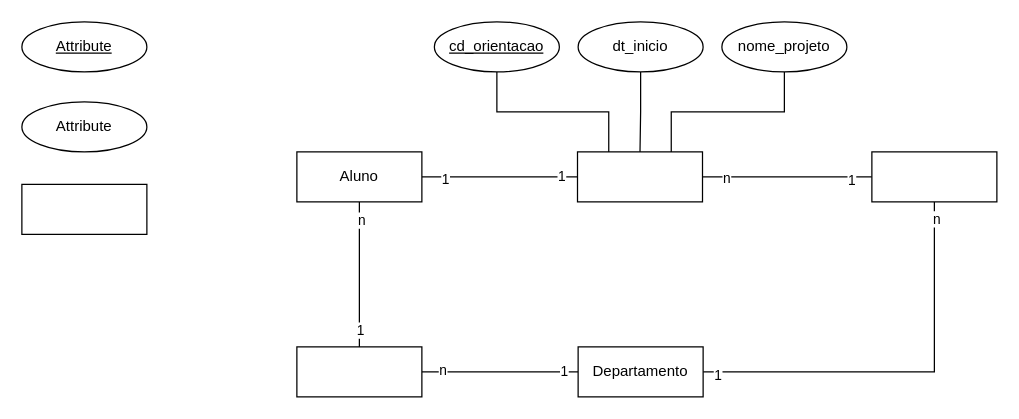
The diagram is 1019 pixels wide and 419 high, and some of its shapes have lost their labels. Each missing label, with the box of its shape:
Curso: (296, 346, 422, 397)
Entity: (21, 183, 147, 234)
Orientacao: (576, 151, 702, 202)
Professor: (871, 151, 997, 202)
